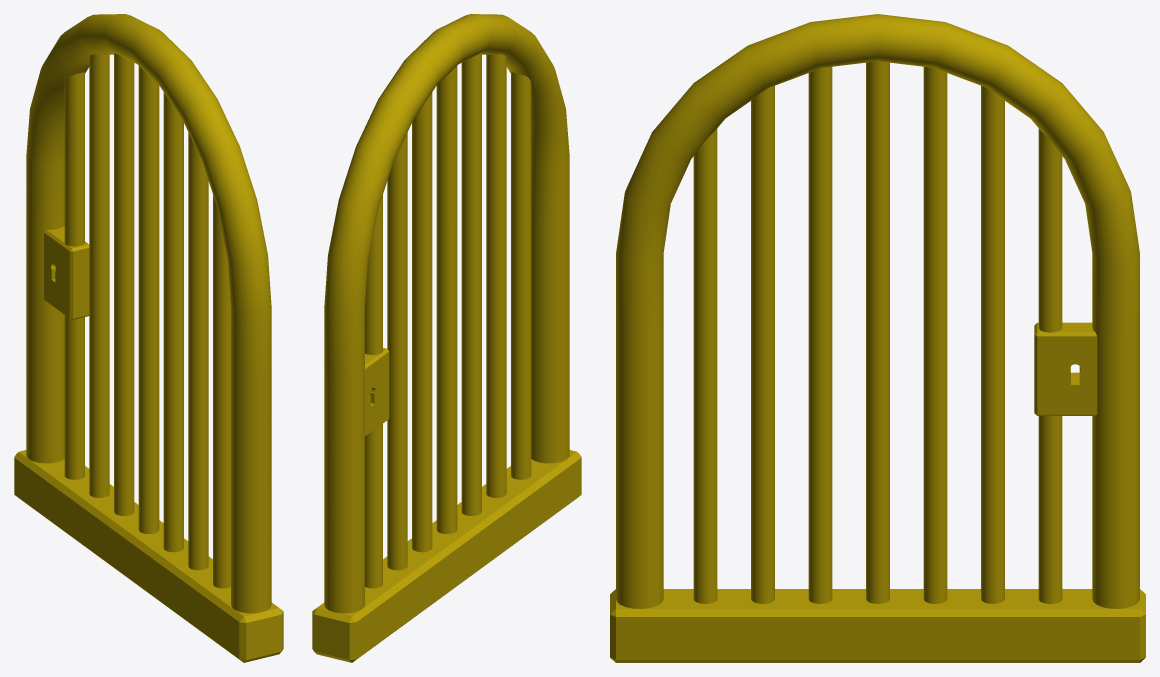
Rendered from Door.fbx.
3 renders of one model, left to right at view 1: azimuth 30°, elevation 25°; view 2: azimuth 150°, elevation 25°; view 3: azimuth 270°, elevation 25°, orthographic. The views are drawn at different scales.
Visible parts, largest first — view 1: pTorus2, pCube3, pCylinder2, polySurface3, polySurface6, polySurface2, polySurface5, polySurface1, polySurface4, pCube6; view 2: pTorus2, pCube3, pCylinder2, polySurface6, polySurface3, polySurface5, polySurface2, polySurface4, polySurface1, pCube6; view 3: pTorus2, pCube3, polySurface6, polySurface3, pCylinder2, polySurface2, polySurface5, polySurface4, polySurface1, pCube6.
Part boxes in pixels (box(x1,y1,x2,y2)): pTorus2: box(26, 14, 271, 613); pCube3: box(14, 450, 283, 662); pCylinder2: box(138, 66, 159, 533); polySurface3: box(114, 53, 134, 515); polySurface6: box(163, 92, 183, 552); polySurface2: box(89, 54, 109, 497); polySurface5: box(188, 132, 208, 570); polySurface1: box(64, 72, 84, 479); polySurface4: box(213, 195, 230, 588); pCube6: box(44, 226, 89, 319); pTorus2: box(324, 14, 569, 613); pCube3: box(312, 450, 581, 662); pCylinder2: box(436, 66, 457, 533); polySurface6: box(461, 53, 481, 515); polySurface3: box(412, 92, 432, 552); polySurface5: box(486, 54, 506, 497); polySurface2: box(387, 132, 407, 570); polySurface4: box(511, 72, 531, 479); polySurface1: box(365, 195, 382, 588); pCube6: box(365, 348, 389, 436); pTorus2: box(616, 14, 1139, 608); pCube3: box(610, 589, 1145, 662); polySurface6: box(808, 67, 832, 603); polySurface3: box(923, 67, 947, 603); pCylinder2: box(866, 61, 889, 603); polySurface2: box(981, 86, 1004, 603); polySurface5: box(751, 86, 774, 603); polySurface4: box(693, 128, 717, 603); polySurface1: box(1038, 128, 1062, 603); pCube6: box(1034, 322, 1097, 415).
Size of the model in its own units: 1 by 9 by 11.8.
